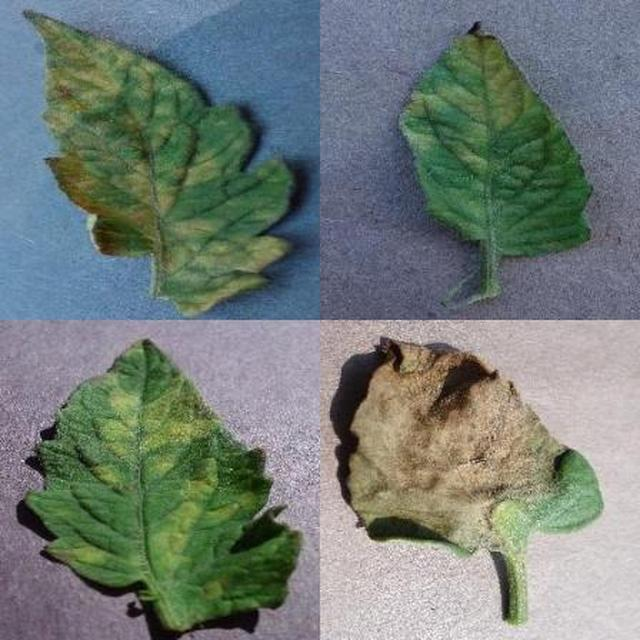Leaf Mold: (230, 198, 640, 640)
